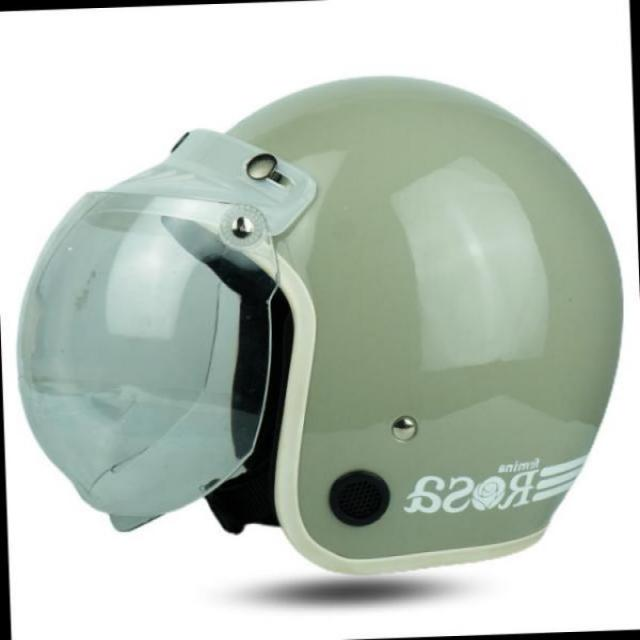Helmet: (8, 102, 621, 560)
